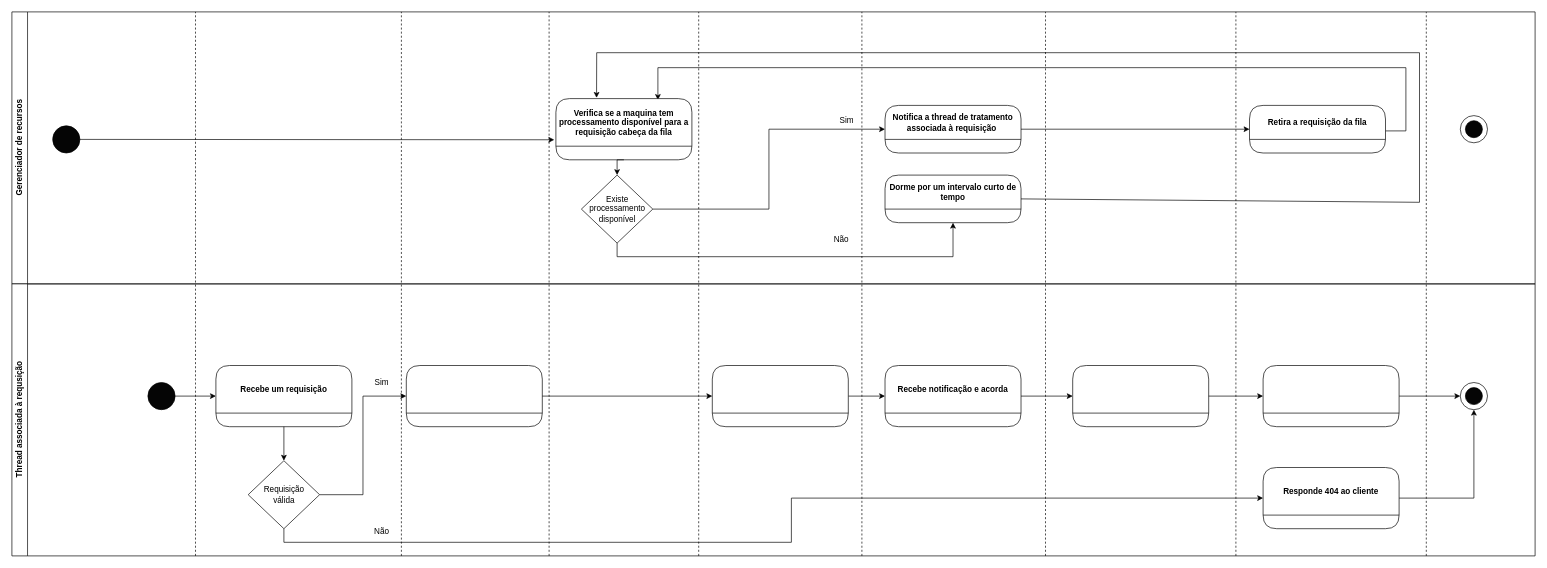
Some shapes in this 1547 by 568 pixel diagram are drawn without their labels. Here are the shapes that lost their labels. From the top down, the centre of each, then its label:
At pixel 474 396: "Entrega a requisição ao gerenciador de recursos".
At pixel 780 396: "Dorme".
At pixel 1140 396: "Processa a imagem".
At pixel 1330 396: "Responde a imagem processada ao cliente".
